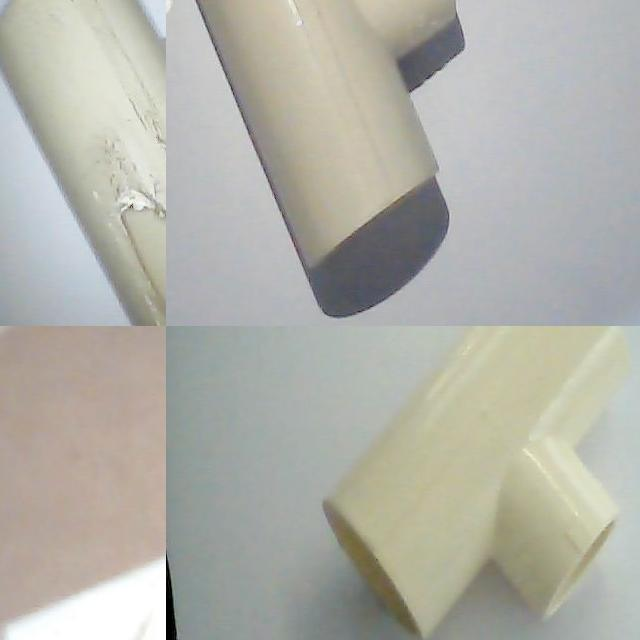Defective: (111, 195, 166, 326)
T Joint: (321, 326, 633, 640), (193, 0, 467, 271), (0, 0, 166, 326)
